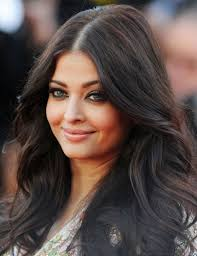indian_female: (27, 19, 154, 180)
